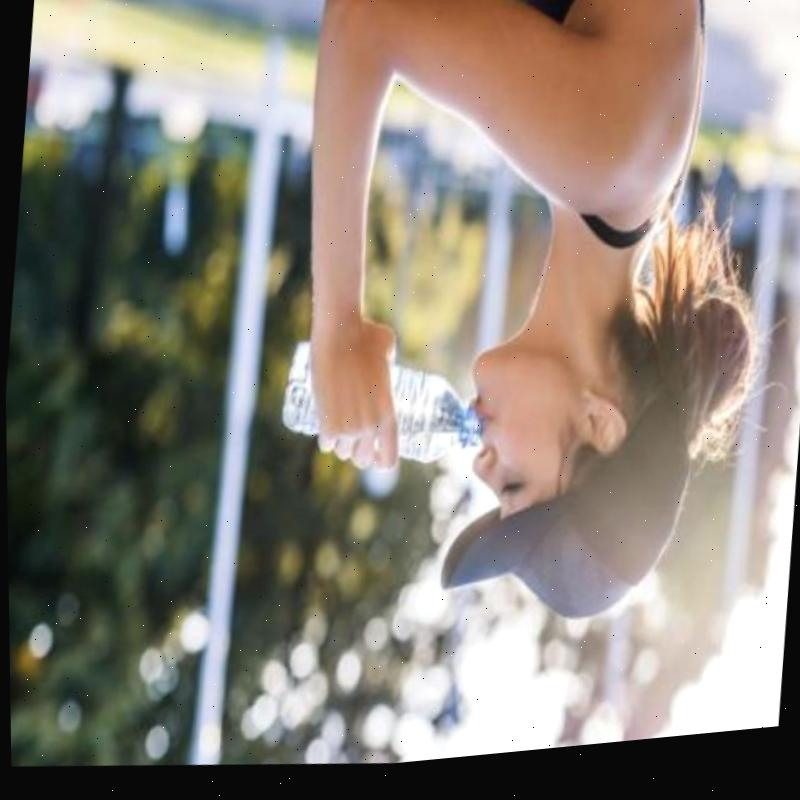botella: (274, 326, 491, 489)
